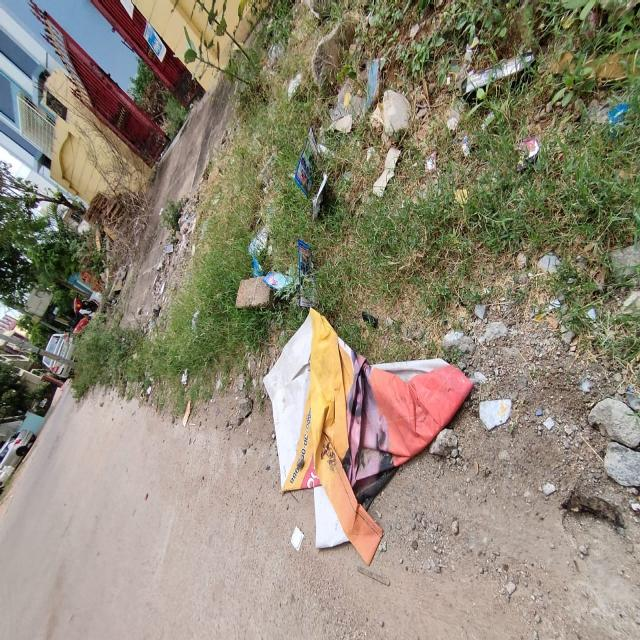paper: (293, 126, 318, 199), (299, 238, 317, 307)
plastic: (264, 308, 474, 570)
